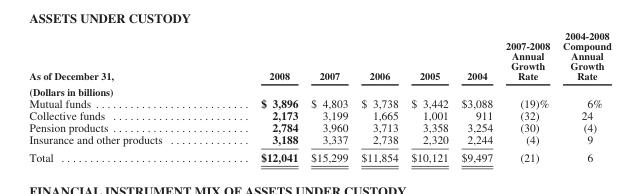table: (28, 29, 610, 163)
table column: (28, 29, 210, 163), (210, 29, 303, 163), (498, 29, 555, 163), (555, 29, 610, 163), (353, 29, 404, 163), (303, 29, 353, 163), (404, 29, 454, 163), (454, 29, 498, 163)
table column header: (28, 29, 610, 83)
table projected row header: (28, 83, 610, 96)
table row: (28, 29, 610, 83), (28, 147, 610, 163), (28, 133, 610, 147), (28, 83, 610, 96), (28, 120, 610, 133), (28, 96, 610, 108), (28, 108, 610, 120)
